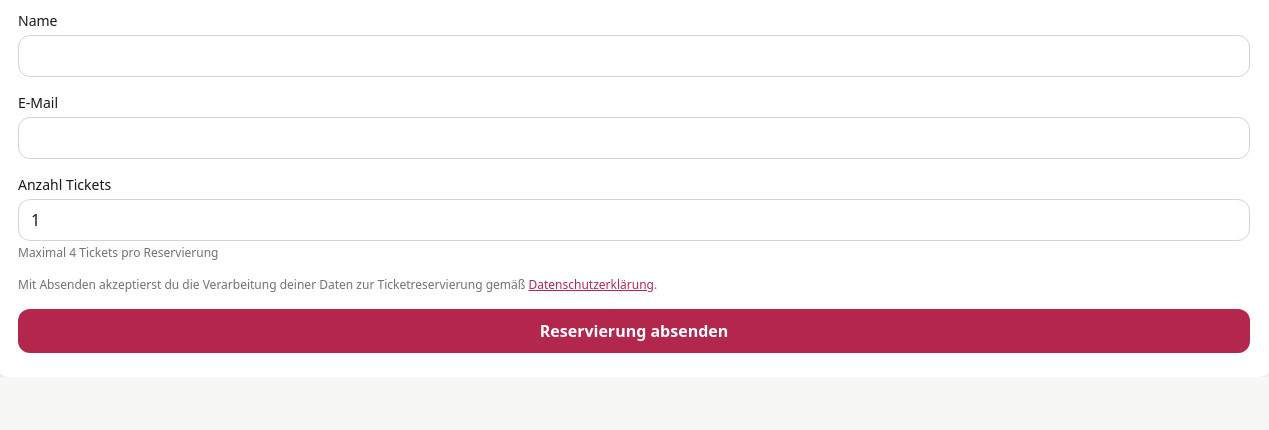
Test: ReservationForm › error state › should keep form visible after error
Type "Max" into the field labelled "Name" at (634, 56), box [18,35,1250,77]
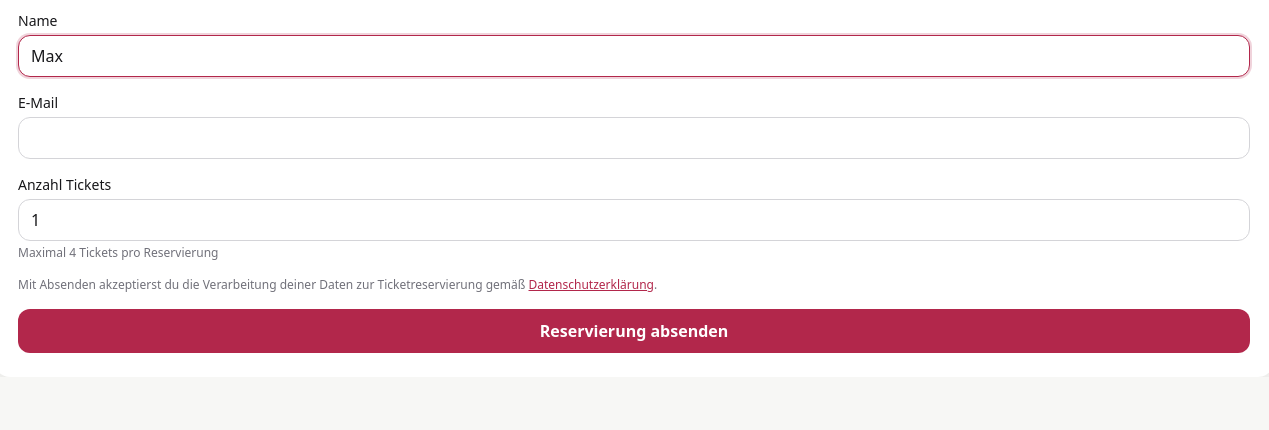
Type "max@example.com" into the field labelled "E-Mail" at (634, 138), box [18,117,1250,159]
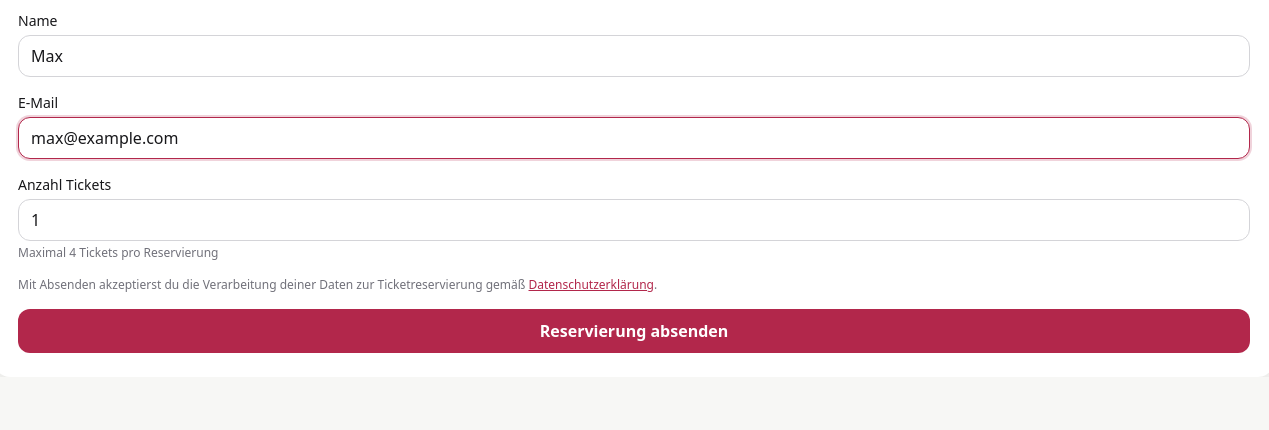
Click the button "Reservierung absenden" at (634, 331), box [18,309,1250,353]
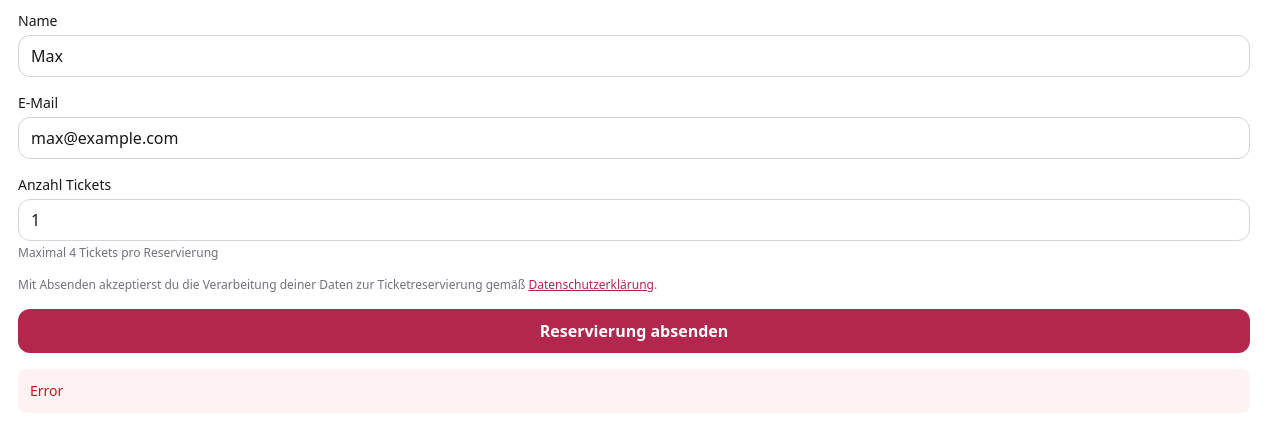
Result: the text "Error" is shown at [18,369,1250,413]
